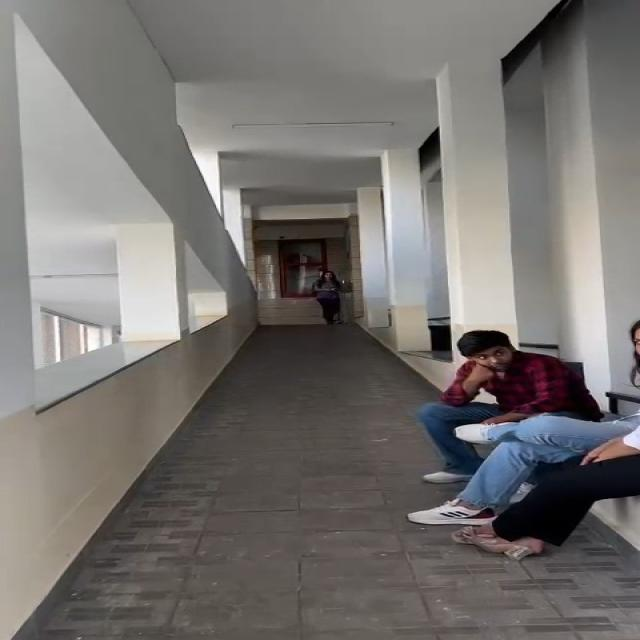floor: (222, 338, 445, 628)
moving_object: (419, 316, 640, 558), (307, 270, 366, 321)
wall: (0, 0, 194, 607), (206, 0, 558, 316)
